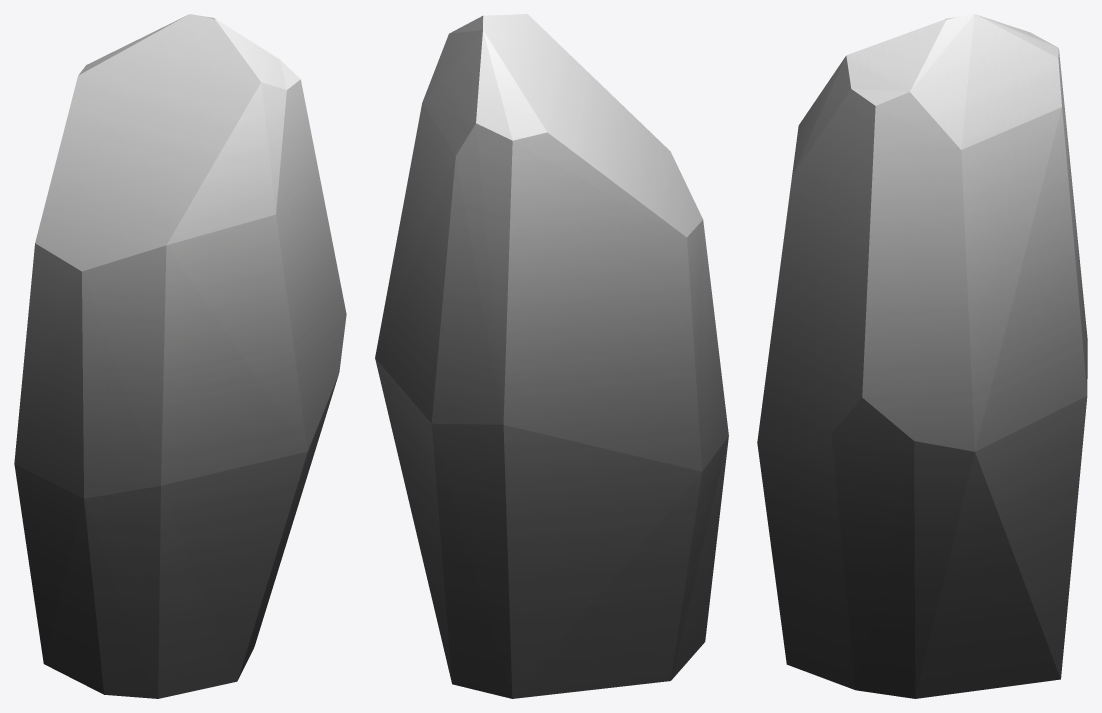
Rendered from CrystalShard_C.fbx.
3 renders of one model, left to right at view 1: azimuth 30°, elevation 25°; view 2: azimuth 150°, elevation 25°; view 3: azimuth 270°, elevation 25°, orthographic. The views are drawn at different scales.
Visible parts, largest first — view 1: CrystalShard_C; view 2: CrystalShard_C; view 3: CrystalShard_C.
Boxes of the visible parts, x1,y1,x2,y2 form: CrystalShard_C: [14, 14, 346, 698]; CrystalShard_C: [375, 14, 728, 698]; CrystalShard_C: [757, 14, 1087, 698].
Size of the model in its own units: 95.72 by 182 by 81.17.
1 material, 1 textured.
